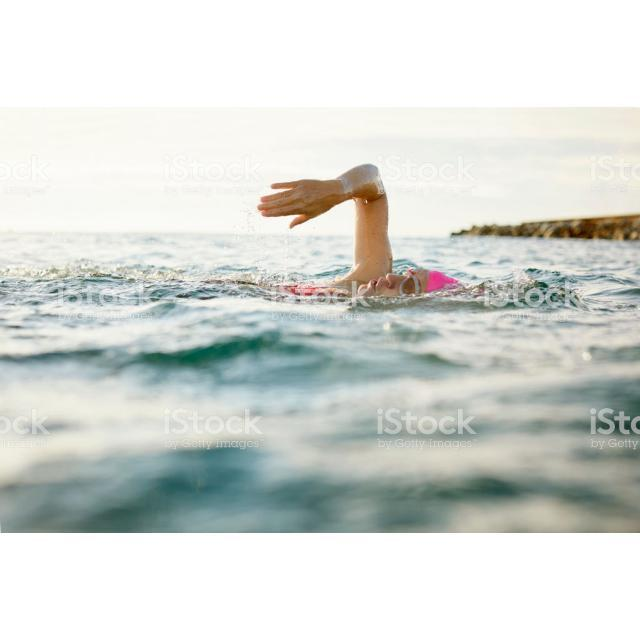human: (250, 160, 467, 302)
